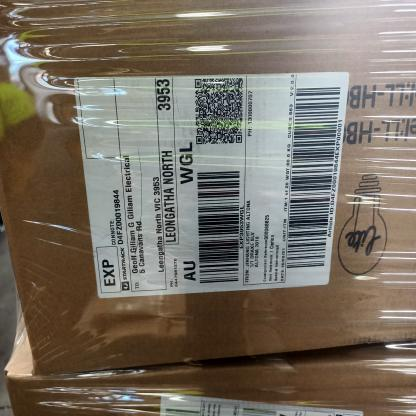label: (74, 73, 350, 301)
package: (0, 0, 413, 378), (7, 345, 416, 416)
